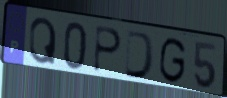0: (61, 20, 89, 71)
5: (193, 39, 218, 91)
D: (123, 29, 156, 82)
G: (157, 36, 188, 86)
P: (92, 24, 124, 75)
Q: (28, 16, 59, 67)
